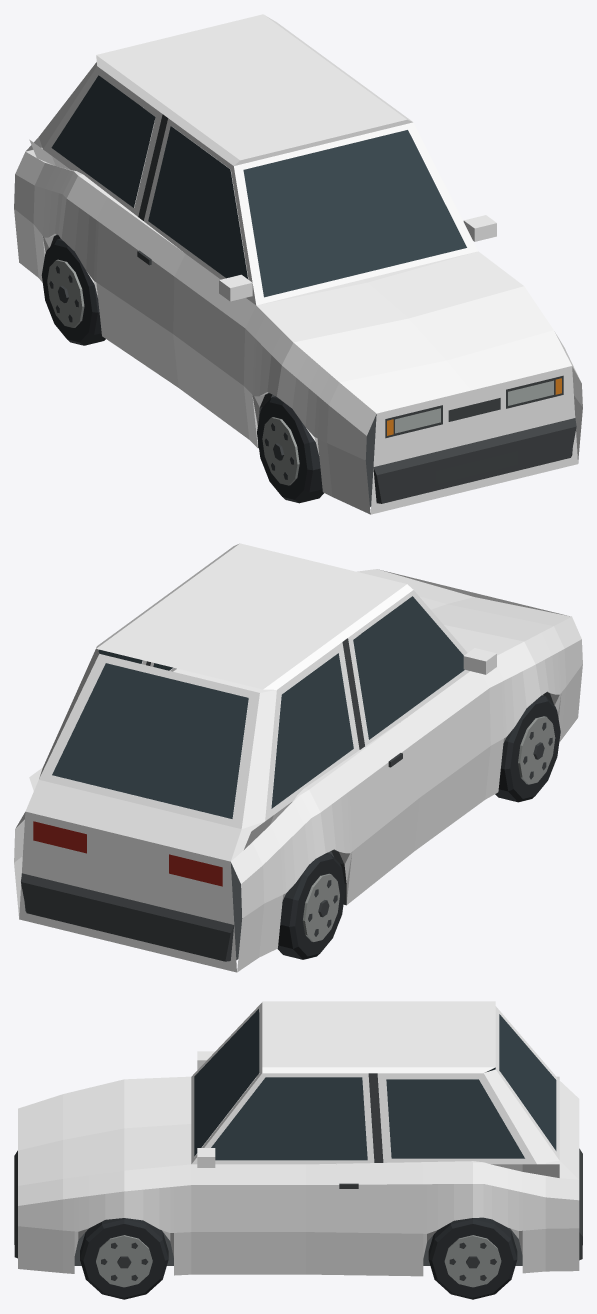
Rendered from garrison_pecos_ii.glb.
3 renders of one model, top to bottom at view 1: azimuth 30°, elevation 25°; view 2: azimuth 150°, elevation 25°; view 3: azimuth 270°, elevation 25°, orthographic. The views are drawn at different scales.
Visible parts, largest first — view 1: garrison_pecos_ii; view 2: garrison_pecos_ii; view 3: garrison_pecos_ii.
Boxes of the visible parts, x1,y1,x2,y2 form: garrison_pecos_ii: (14, 14, 582, 514); garrison_pecos_ii: (14, 543, 582, 972); garrison_pecos_ii: (14, 1001, 582, 1299).
Bounding box in the file's own units: 1.67 × 1.6 × 3.8.
8 materials, 1 textured.
